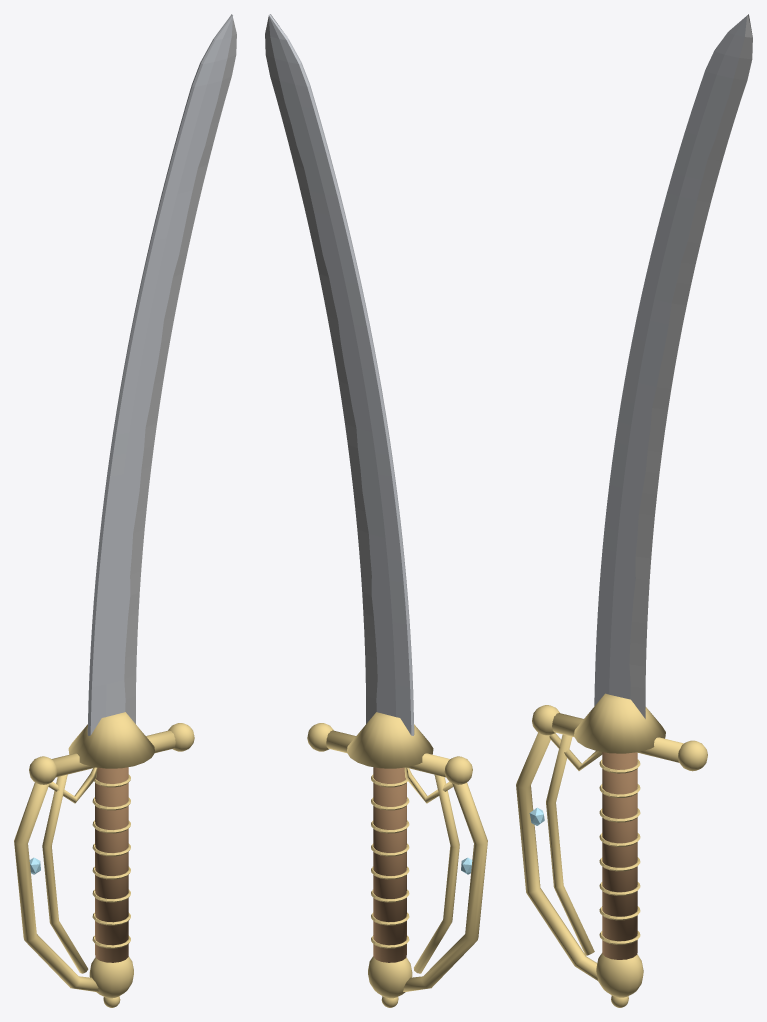
The model's file is w_saebel.glb.
3 renders of one model, left to right at view 1: azimuth 30°, elevation 25°; view 2: azimuth 150°, elevation 25°; view 3: azimuth 330°, elevation 25°, orthographic. The views are drawn at different scales.
Parts seen in each view (by area): view 1: G_w_saebel; view 2: G_w_saebel; view 3: G_w_saebel.
Boxes of the visible parts, box(x1,y1,x2,y2) form: G_w_saebel: box(14, 14, 236, 1007); G_w_saebel: box(265, 14, 487, 1007); G_w_saebel: box(516, 14, 752, 1007).
Size of the model in its own units: 0.2398 by 0.993 by 0.0815.
